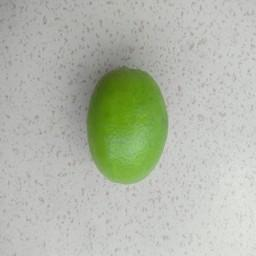Good_lime: (83, 64, 169, 188)
